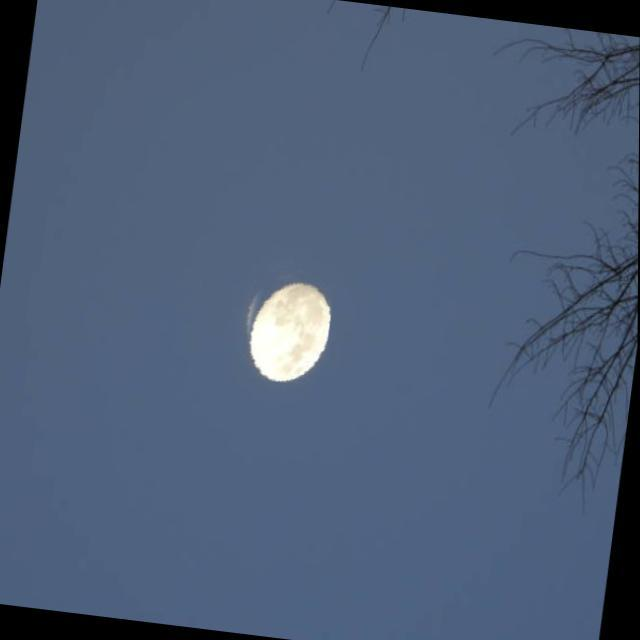moon: (233, 259, 337, 387)
